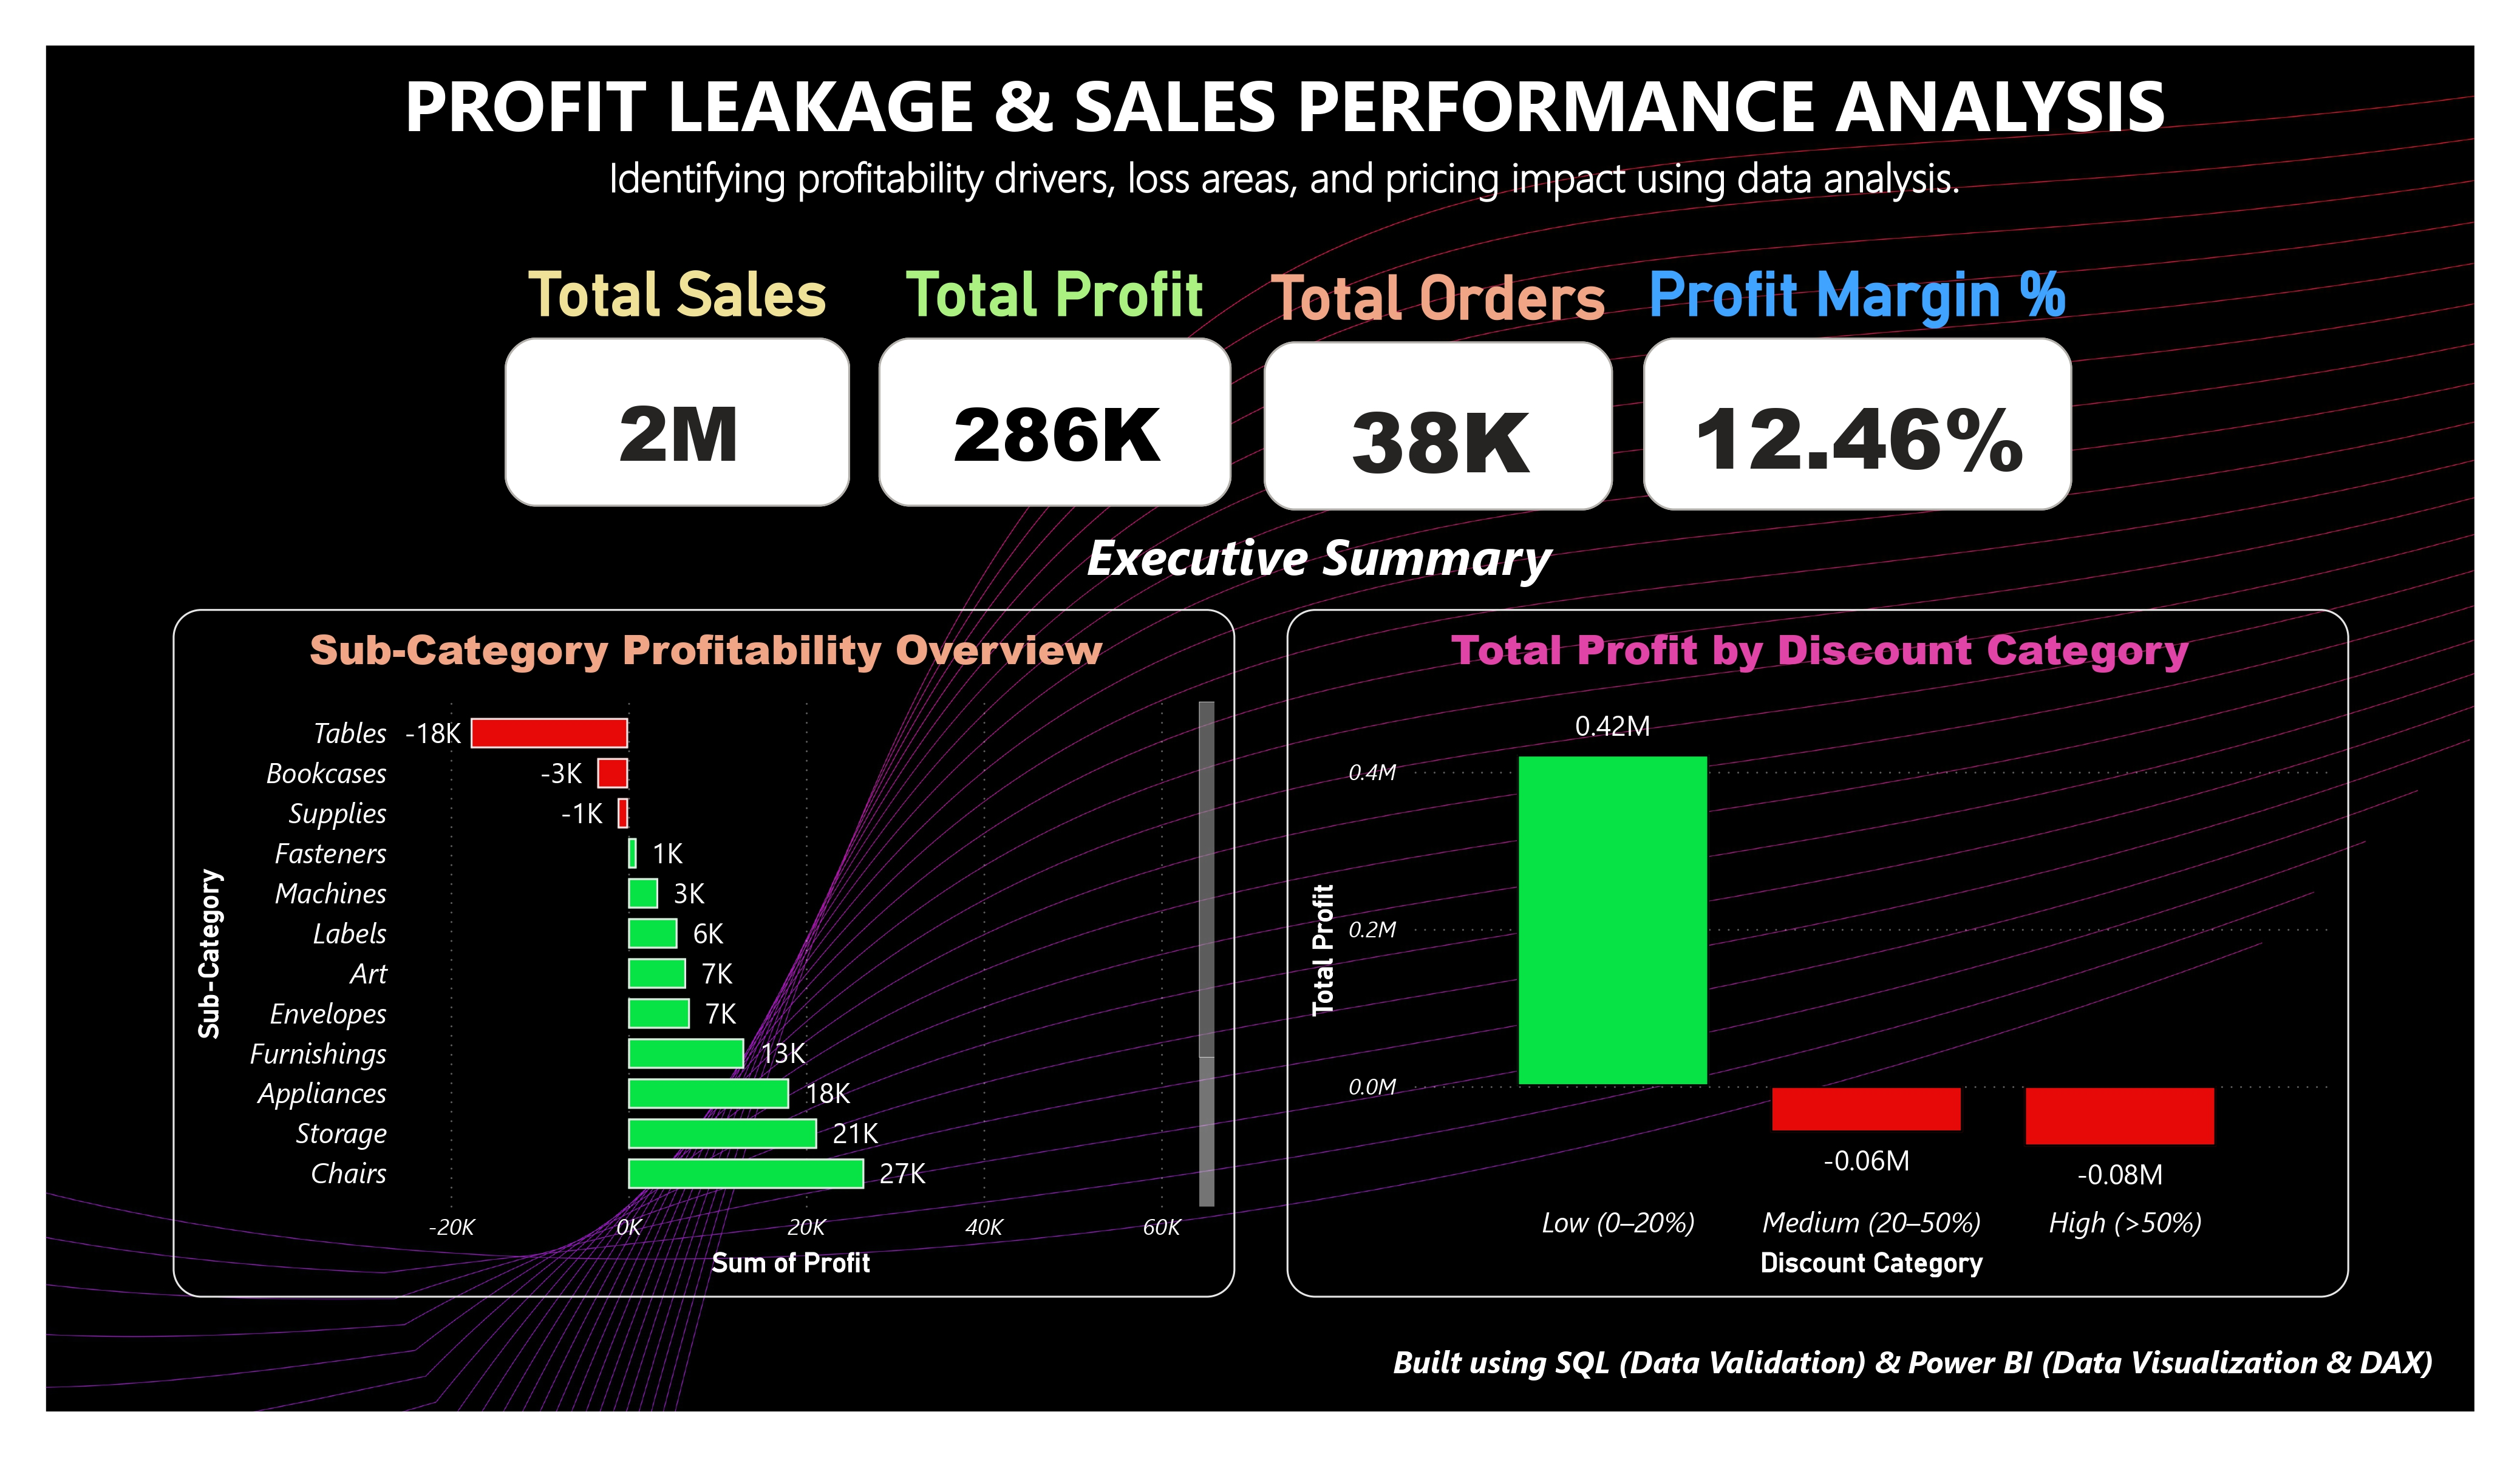

What the dashboard file says about the page in this screenshot:
{"tool":"powerbi","page":{"name":"Page 1","canvas":[1280,720],"ordinal":0},"visuals":[{"type":"textbox","box":[162.2,0,981.4,100.2],"z":0},{"type":"cardVisual","title":"Total Sales","fields":{"Data":["Sum(Sales.Sales)"]},"box":[240.2,111.3,186.1,133.6],"z":1000},{"type":"cardVisual","title":"Total Profit","fields":{"Data":["Sum(Sales.Profit)"]},"box":[437.4,111.3,189.3,133.6],"z":2000},{"type":"cardVisual","title":"Total Orders","fields":{"Data":["Sum(Sales.Quantity)"]},"box":[640,113.3,188.3,133.3],"z":3000},{"type":"cardVisual","title":"Profit Margin %","fields":{"Data":["Sales.Profit Margin %"]},"box":[839.8,111.3,230.6,135.2],"z":4000},{"type":"clusteredBarChart","title":"Sub-Category Profitability Overview","fields":{"Y":["Sum(Sales.Profit)"],"Category":["Sales.Sub-Category"]},"box":[66.8,297.4,559.9,362.7],"z":5000},{"type":"textbox","box":[704.6,677.6,575.8,42.9],"z":6000},{"type":"textbox","box":[501.7,245,338.3,51.7],"z":7000},{"type":"clusteredColumnChart","fields":{"Category":["Sales.Discount Category"],"Y":["Sales.Total Profit"]},"box":[653.7,297.4,559.9,362.7],"z":8000}]}

Visuals, with their boxes on the page's 1280x720 design canvas (x1, y1, x2, y2). These are canvas units, not pixel positions in the 2520x1457 screenshot, which may show the page scaled, cropped or inside an application window:
textbox: 162:0:1144:100
"Total Sales" cardVisual: 240:111:426:245
"Total Profit" cardVisual: 437:111:627:245
"Total Orders" cardVisual: 640:113:828:247
"Profit Margin %" cardVisual: 840:111:1070:246
"Sub-Category Profitability Overview" clusteredBarChart: 67:297:627:660
textbox: 705:678:1280:720
textbox: 502:245:840:297
clusteredColumnChart - Sales.Discount Category x Sales.Total Profit: 654:297:1214:660
